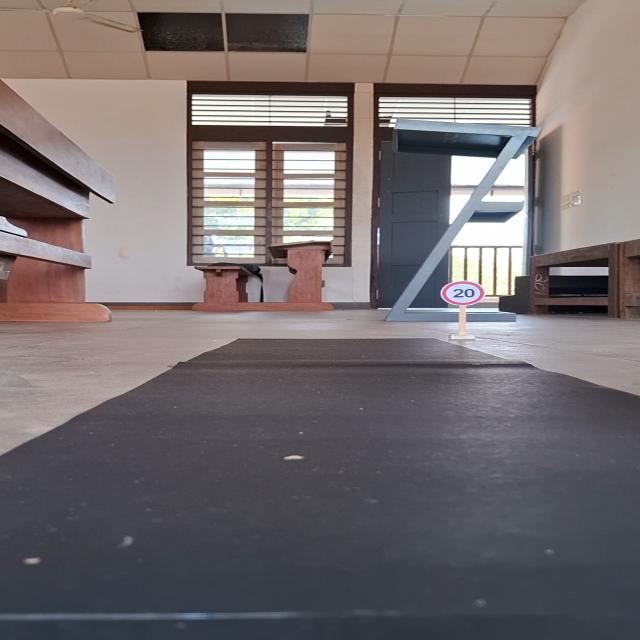Speed20: (439, 280, 487, 306)
